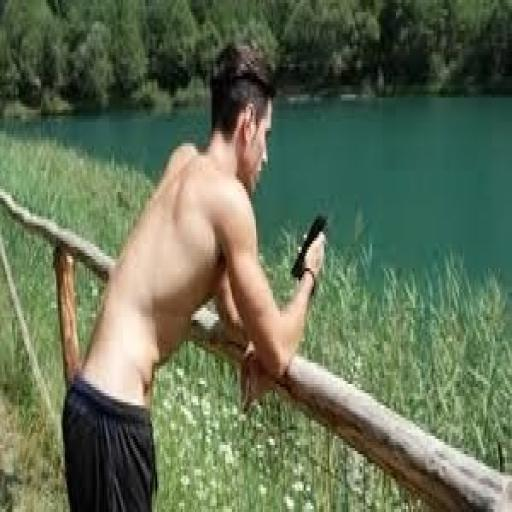calling: (52, 40, 330, 509)
